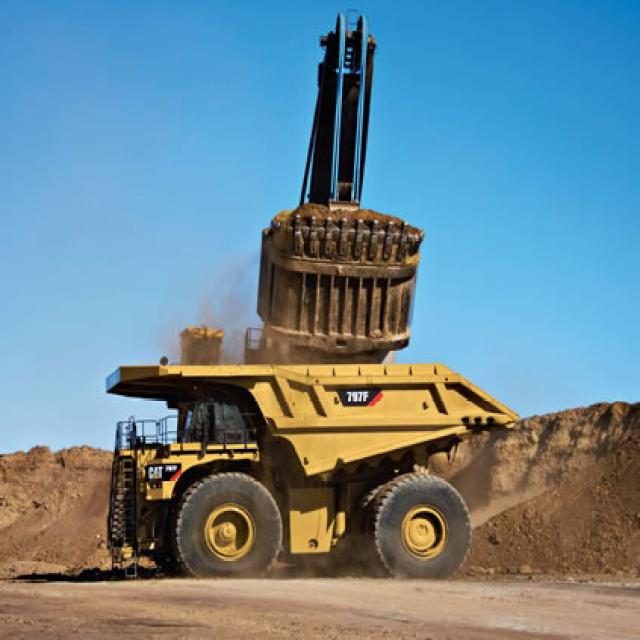dump_truck: (84, 349, 518, 578)
